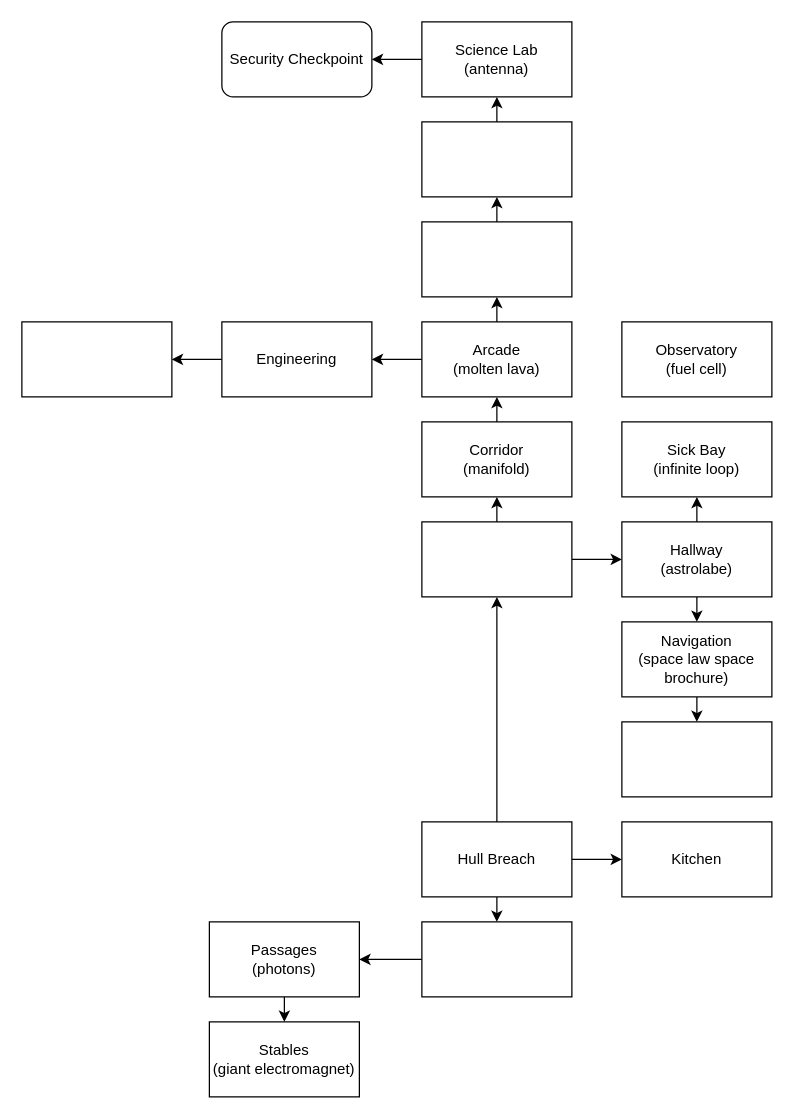
This 794x1119 diagram has some shape labels left out. Here are the shapes that lost their labels. From the top down, the centre of each, then its label:
(x=496, y=159): Crew Quarters (weather machine)
(x=496, y=259): Holodeck (hologram)
(x=96, y=359): Gift Wrapping Center (escape pod)
(x=496, y=559): Warp Drive Maintenance (easter egg)
(x=696, y=759): Hot Chocolate Fountain
(x=496, y=959): Storage
